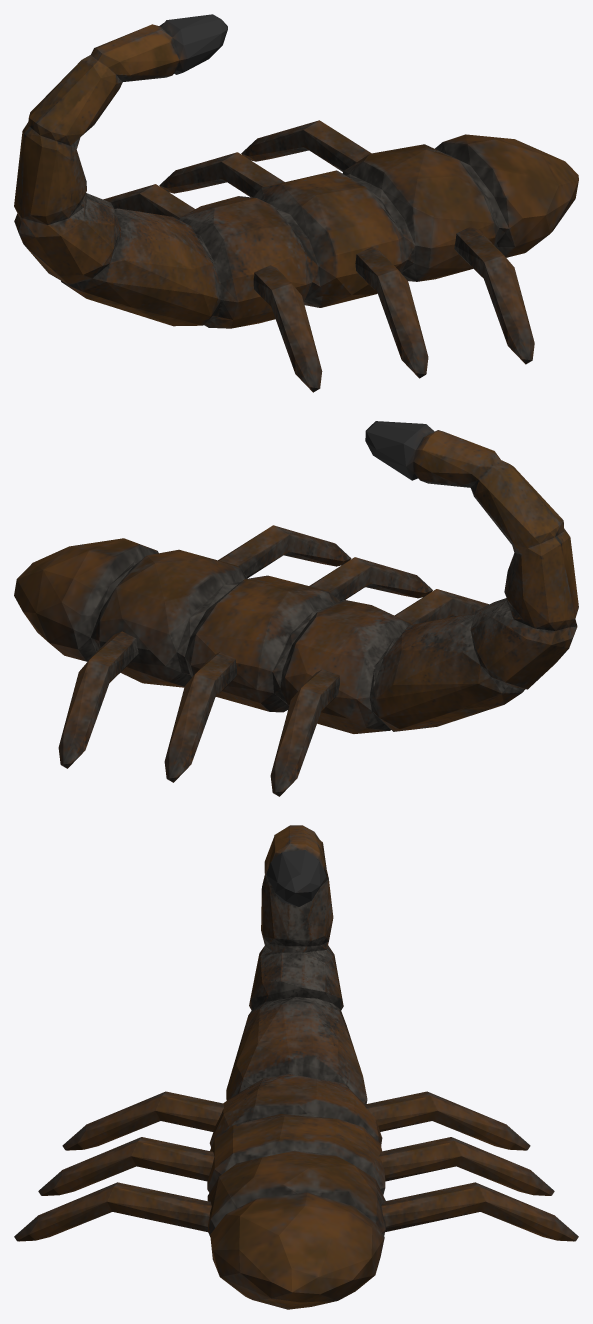
Rendered from akrep2.fbx.
3 renders of one model, top to bottom at view 1: azimuth 30°, elevation 25°; view 2: azimuth 150°, elevation 25°; view 3: azimuth 270°, elevation 25°, orthographic.
Visible parts, largest first — view 1: ArepG, Sa1, Sa2, Sa3, So1, So2, So3; view 2: ArepG, So1, So2, So3, Sa1, Sa2, Sa3; view 3: ArepG, Sa1, So1, Sa2, So2, So3, Sa3.
Part boxes in pixels (box(x1,y1,x2,y2)): ArepG: box(14, 14, 578, 328); Sa1: box(454, 226, 534, 364); Sa2: box(355, 247, 428, 378); Sa3: box(253, 265, 322, 392); So1: box(241, 120, 371, 171); So2: box(159, 152, 284, 197); So3: box(103, 184, 194, 219); ArepG: box(14, 421, 578, 733); So1: box(58, 631, 138, 768); So2: box(164, 652, 236, 782); So3: box(270, 669, 339, 796); Sa1: box(218, 525, 351, 578); Sa2: box(309, 557, 432, 601); Sa3: box(395, 589, 488, 624); ArepG: box(207, 825, 385, 1309); Sa1: box(14, 1182, 211, 1241); So1: box(381, 1182, 578, 1241); Sa2: box(38, 1137, 214, 1195); So2: box(379, 1137, 554, 1195); So3: box(364, 1091, 530, 1150); Sa3: box(62, 1091, 223, 1150).
Size of the model in its own units: 873 by 464 by 774.
